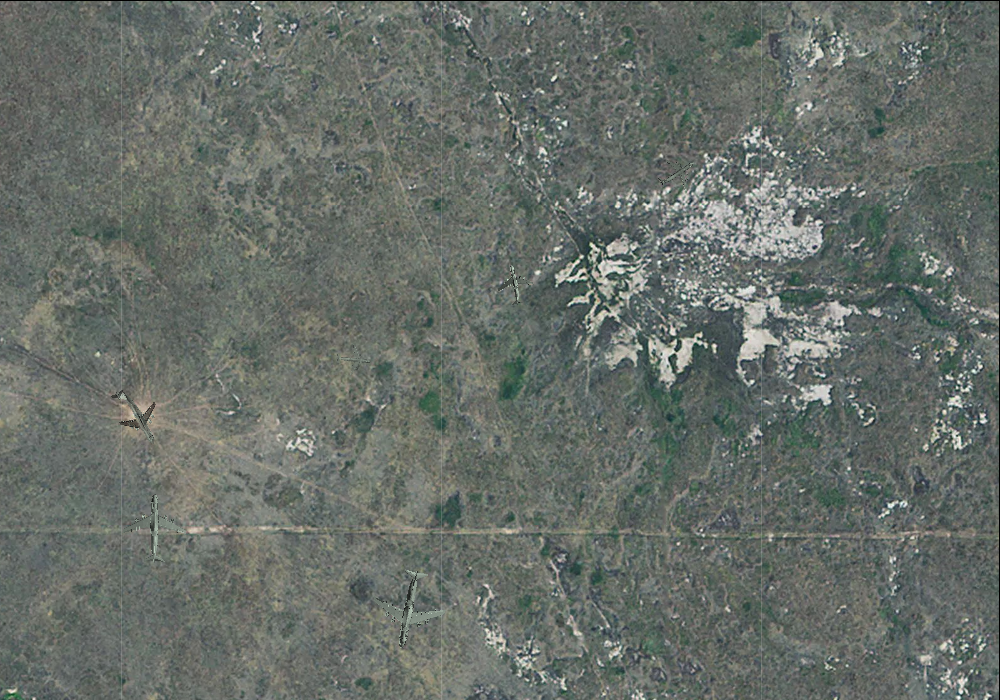plane: (364, 562, 453, 655), (96, 376, 173, 458), (121, 493, 186, 564), (650, 145, 704, 199), (491, 261, 537, 308), (334, 342, 372, 377)
